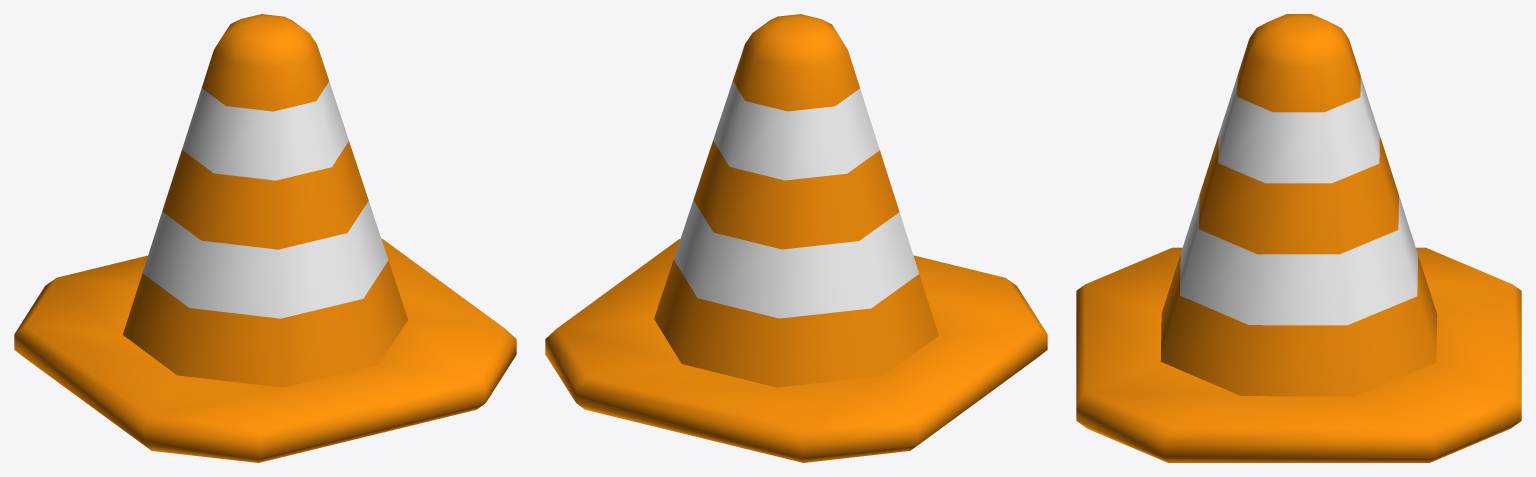
Rendered from TrafficBarge.fbx.
3 renders of one model, left to right at view 1: azimuth 30°, elevation 25°; view 2: azimuth 150°, elevation 25°; view 3: azimuth 270°, elevation 25°, orthographic. The views are drawn at different scales.
Visible parts, largest first — view 1: Traffic Barge; view 2: Traffic Barge; view 3: Traffic Barge.
Part boxes in pixels (box(x1,y1,x2,y2)): Traffic Barge: box(14, 14, 516, 462); Traffic Barge: box(545, 14, 1047, 462); Traffic Barge: box(1076, 14, 1521, 462).
Size of the model in its own units: 0.5 by 0.5 by 0.4335.
